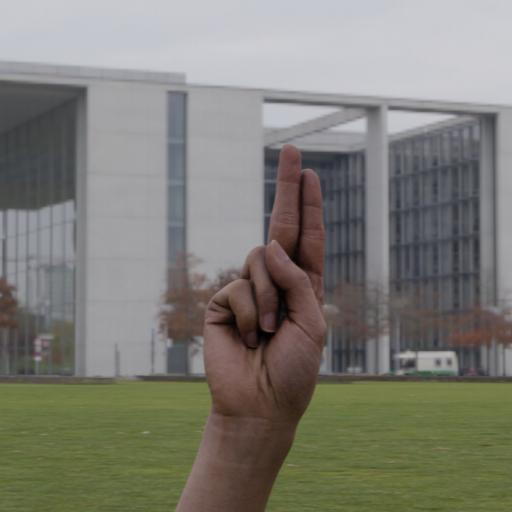U: (175, 128, 358, 452)
